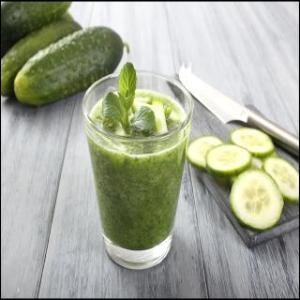cucumber: (11, 24, 125, 106), (1, 17, 80, 96), (0, 1, 72, 38)
